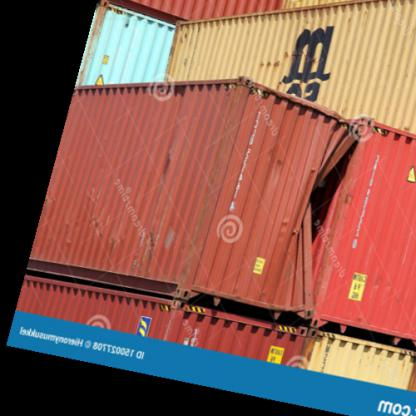Damage: (295, 119, 372, 247)
